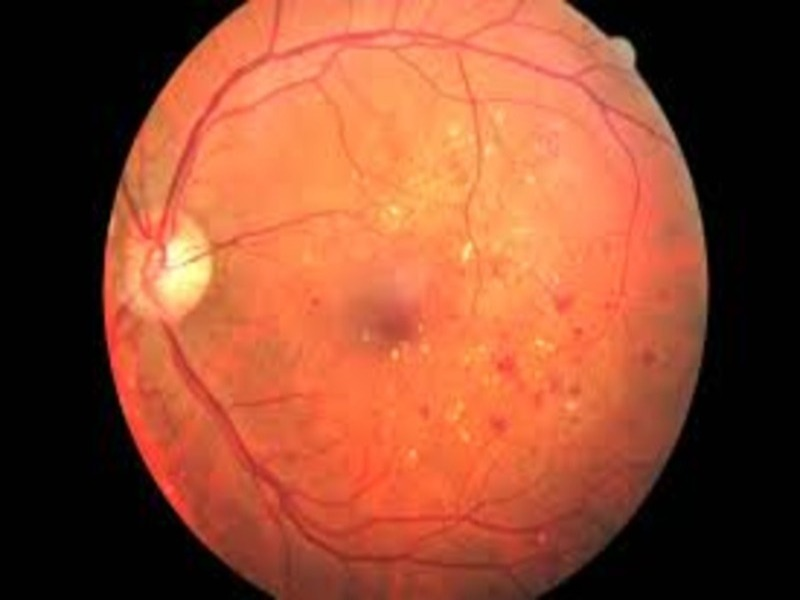Optic Cup: (165, 241, 210, 304)
Optic Disc: (116, 208, 208, 326)
